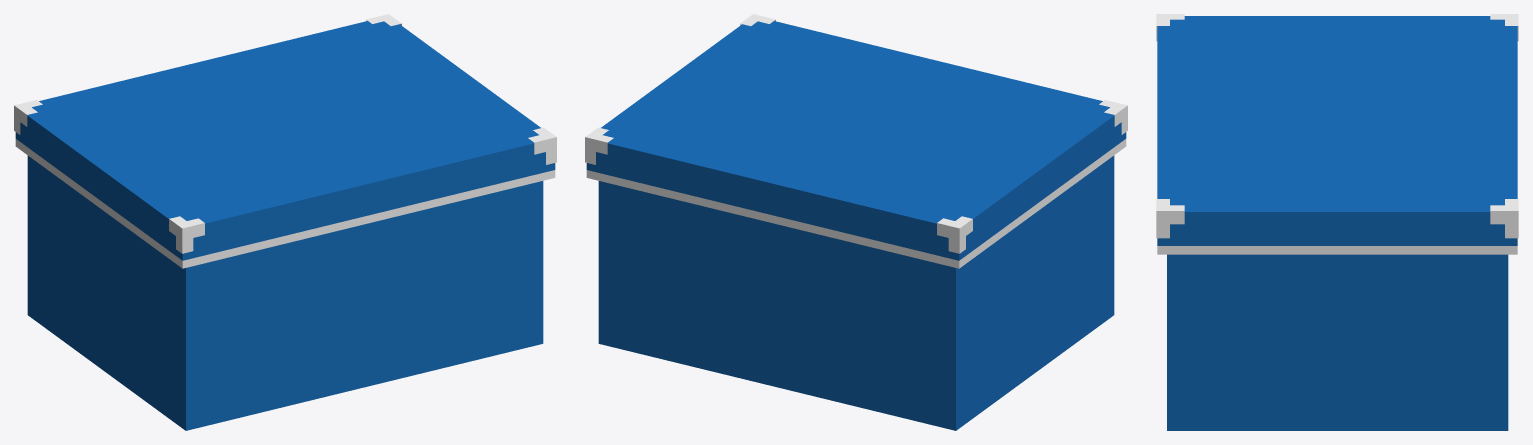
Rendered from Box_Blue.FBX.
The picture shows the model from 3 angles, left to right: view 1: azimuth 30°, elevation 25°; view 2: azimuth 150°, elevation 25°; view 3: azimuth 270°, elevation 25°; orthographic projection. The views are drawn at different scales.
Parts seen in each view (by area): view 1: Box_Blue; view 2: Box_Blue; view 3: Box_Blue.
Part boxes in pixels (x1=…): Box_Blue: x1=14, y1=14, x2=556, y2=430; Box_Blue: x1=585, y1=14, x2=1127, y2=430; Box_Blue: x1=1156, y1=14, x2=1518, y2=430.
Size of the model in its own units: 0.6362 by 0.3378 by 0.4947.
